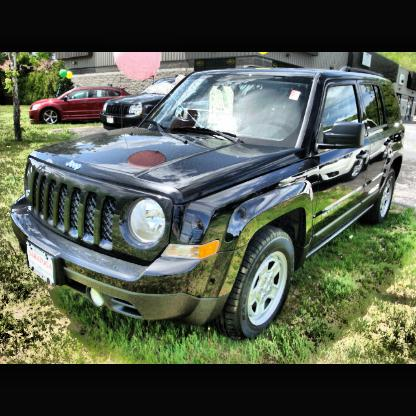Jeep Patriot SUV 2012: (9, 66, 407, 342)
